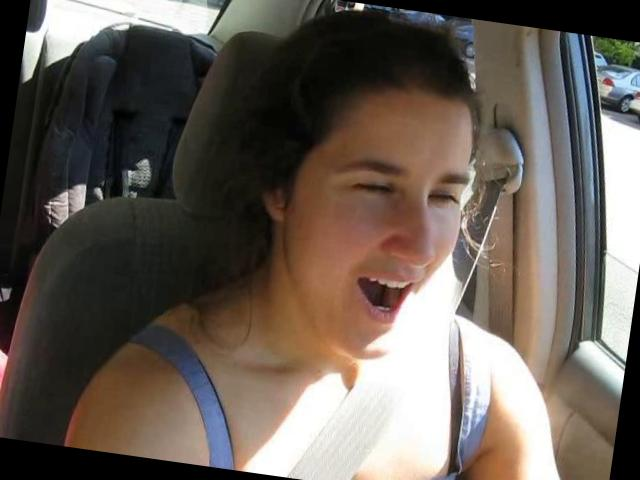eye_closed: (344, 172, 402, 204), (426, 182, 466, 212)
face: (290, 120, 481, 376)
mouth_open: (345, 258, 424, 329)
